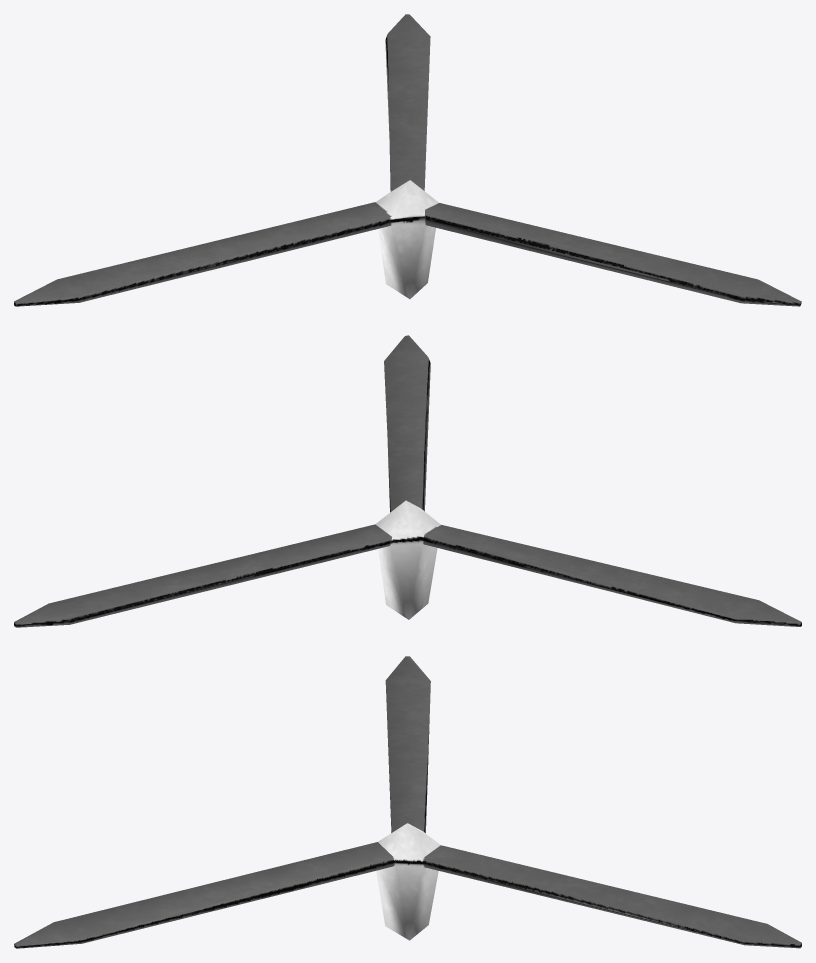
File: helice_arriere.obj
The picture shows the model from 3 angles, top to bottom: view 1: azimuth 30°, elevation 25°; view 2: azimuth 150°, elevation 25°; view 3: azimuth 270°, elevation 25°; orthographic projection.
Visible parts, largest first — view 1: helice_arriere retopo; view 2: helice_arriere retopo; view 3: helice_arriere retopo.
Boxes of the visible parts, <box> form: helice_arriere retopo: <box>14,14,801,306</box>; helice_arriere retopo: <box>14,335,801,627</box>; helice_arriere retopo: <box>14,656,801,948</box>.
Bounding box in the file's own units: 5.68 × 0.9955 × 6.54.
1 material, 1 textured.
